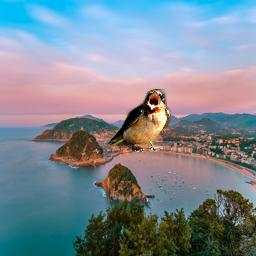Swallow: (106, 89, 171, 152)
